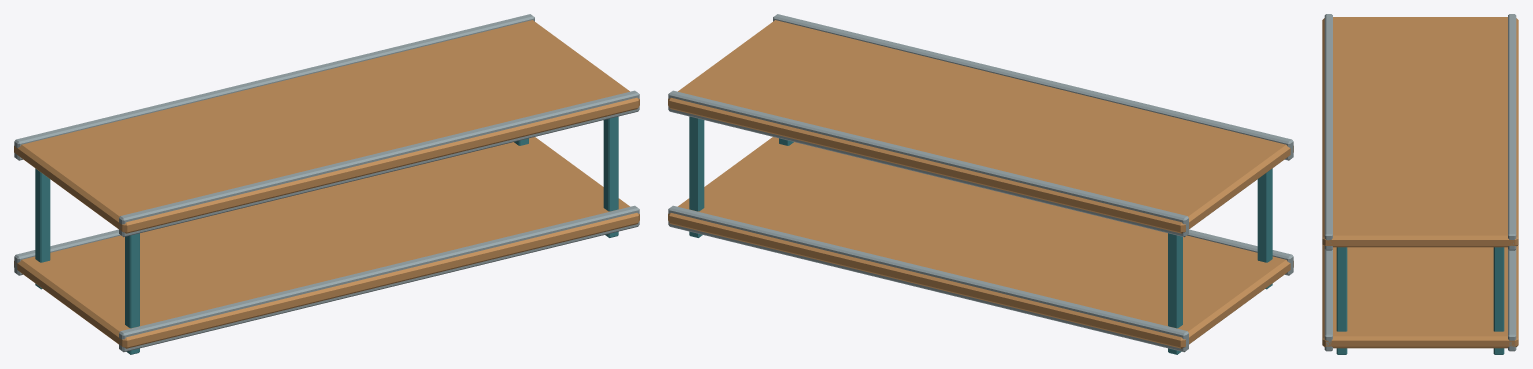
The model's file is WorkshopBench.fbx.
3 renders of one model, left to right at view 1: azimuth 30°, elevation 25°; view 2: azimuth 150°, elevation 25°; view 3: azimuth 270°, elevation 25°, orthographic. The views are drawn at different scales.
Visible parts, largest first — view 1: Shelf boards.001, Shelf boards, Shelf edging.002, Shelf edging, Shelf edging.003, Steel leg.002, Steel leg, Steel leg.001, Shelf edging.001; view 2: Shelf boards.001, Shelf boards, Shelf edging.001, Shelf edging.003, Shelf edging.002, Steel leg.003, Steel leg.001, Steel leg, Shelf edging; view 3: Shelf boards.001, Shelf boards, Shelf edging.003, Shelf edging.002, Steel leg.002, Steel leg.003, Shelf edging, Shelf edging.001.
Part boxes in pixels (box(x1,y1,x2,y2)): Shelf boards.001: box(14, 20, 639, 233); Shelf boards: box(14, 137, 639, 348); Shelf edging.002: box(119, 90, 639, 237); Shelf edging: box(119, 205, 639, 352); Shelf edging.003: box(14, 14, 534, 160); Steel leg.002: box(603, 116, 618, 237); Steel leg: box(125, 233, 139, 354); Steel leg.001: box(35, 168, 50, 289); Shelf edging.001: box(14, 229, 120, 275); Shelf boards.001: box(668, 20, 1293, 233); Shelf boards: box(668, 137, 1293, 348); Shelf edging.001: box(668, 205, 1188, 352); Shelf edging.003: box(668, 90, 1188, 237); Shelf edging.002: box(773, 14, 1293, 160); Steel leg.003: box(689, 116, 704, 237); Steel leg.001: box(1168, 233, 1182, 354); Steel leg: box(1257, 168, 1272, 289); Shelf edging: box(1187, 229, 1293, 275); Shelf boards.001: box(1322, 17, 1518, 247); Shelf boards: box(1322, 245, 1518, 348); Shelf edging.003: box(1508, 14, 1516, 250); Shelf edging.002: box(1324, 14, 1332, 250); Steel leg.002: box(1336, 247, 1347, 354); Steel leg.003: box(1493, 247, 1504, 354); Shelf edging: box(1324, 249, 1332, 351); Shelf edging.001: box(1508, 249, 1516, 351).
Bounding box in the file's own units: 4 × 1.07 × 1.5.
